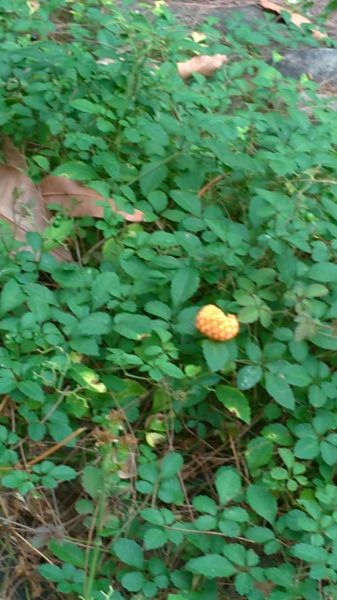eggs: (193, 297, 242, 347)
